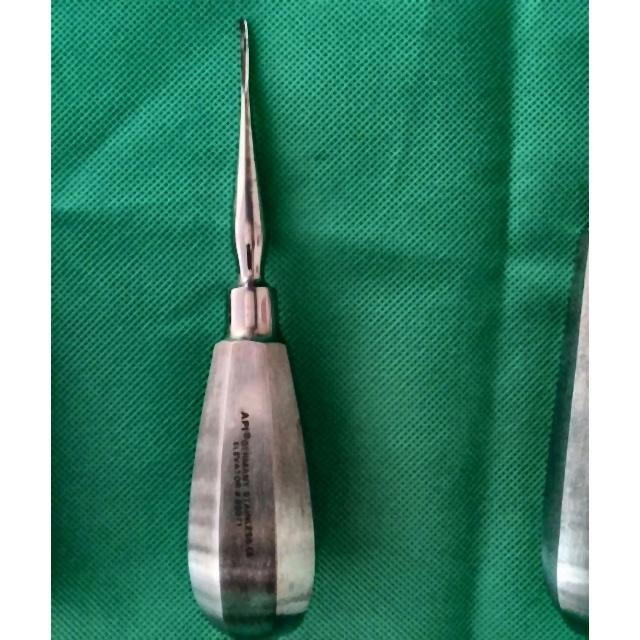botador: (187, 19, 316, 639)
